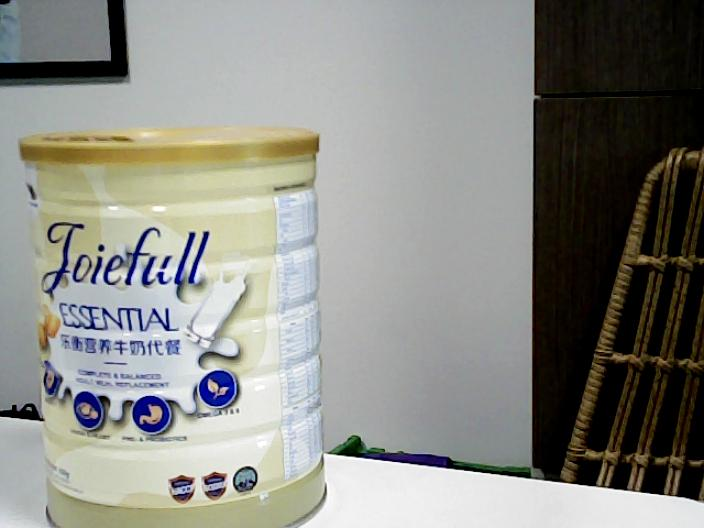Adult_Milk_800-899g_Halal_NonHealthy: (21, 129, 332, 528)
